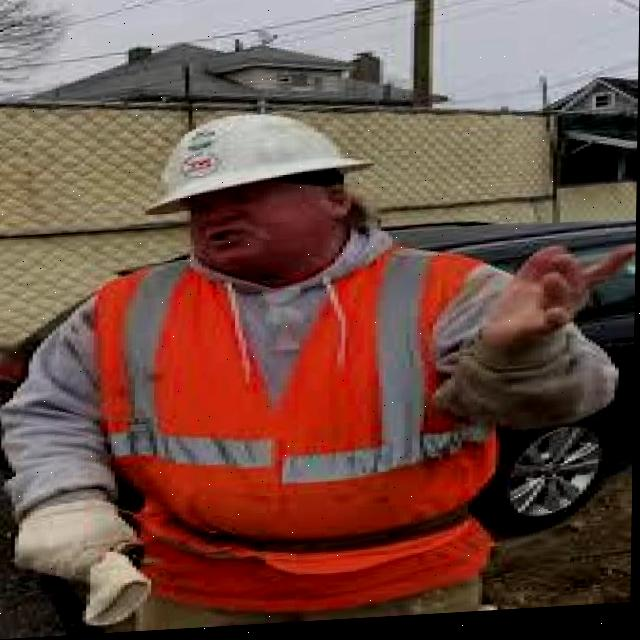Gloves: (15, 492, 154, 633)
Helmet: (145, 109, 377, 217)
No-Glove: (434, 245, 636, 443)
Safety-Vest: (91, 240, 513, 627)
